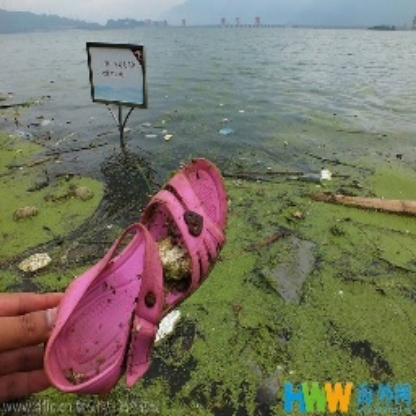branch: (307, 182, 416, 222)
plastic-garbage: (44, 159, 231, 393)
